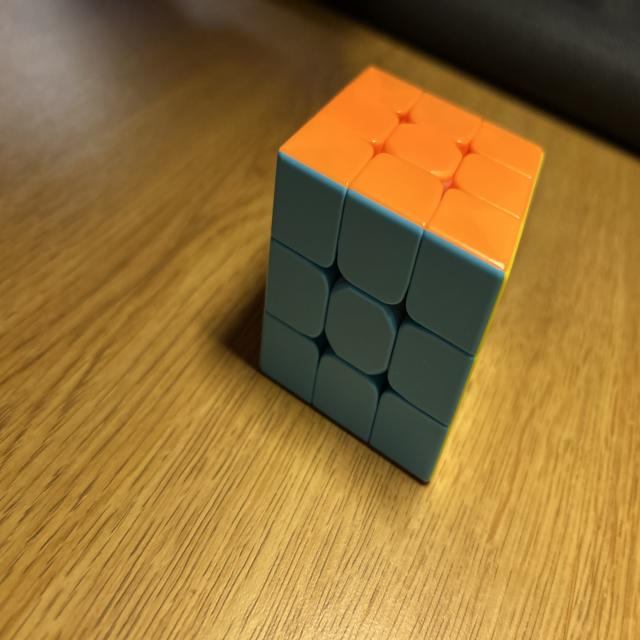Rubiks Cube: (259, 65, 544, 486)
